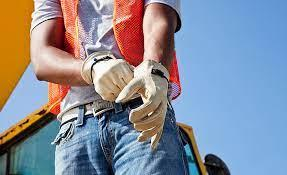gloves: (115, 58, 170, 150), (81, 51, 136, 103)
